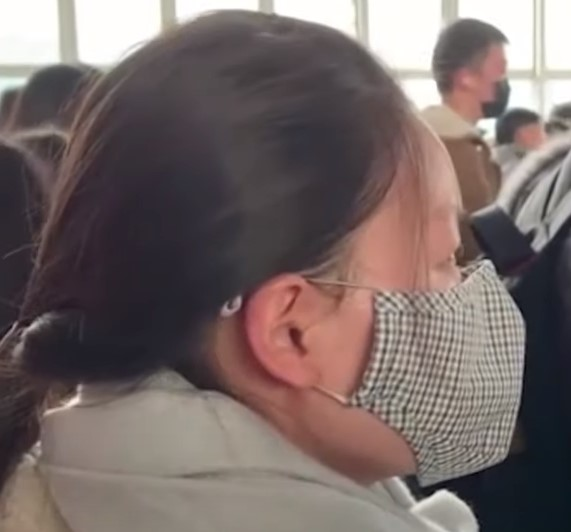face_with_mask: (197, 24, 533, 500), (429, 23, 511, 119)
